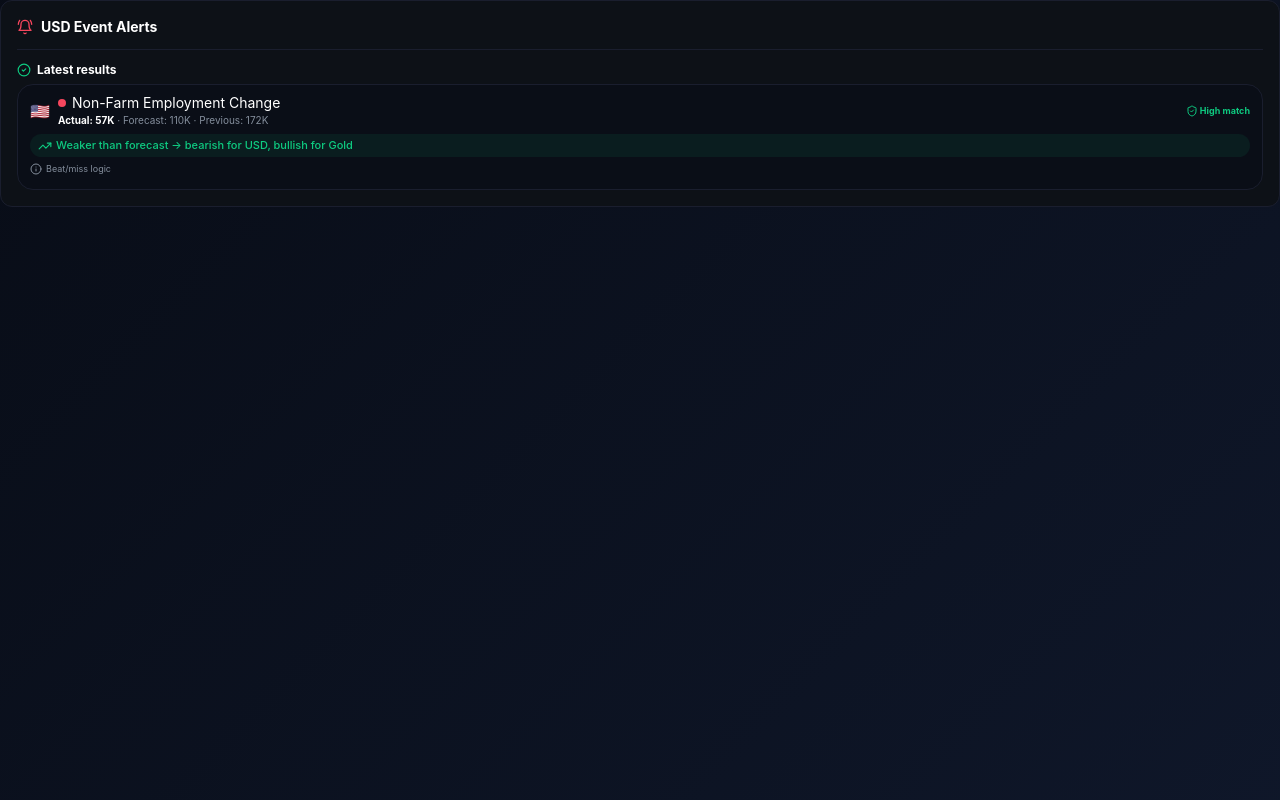
Test: EventAlertBanner — released NFP › reveals the method tooltip on interaction
Step 1. Hover over the button with aria-label "how this call was made" → {"x": 70, "y": 169}, box [30,162,111,176]
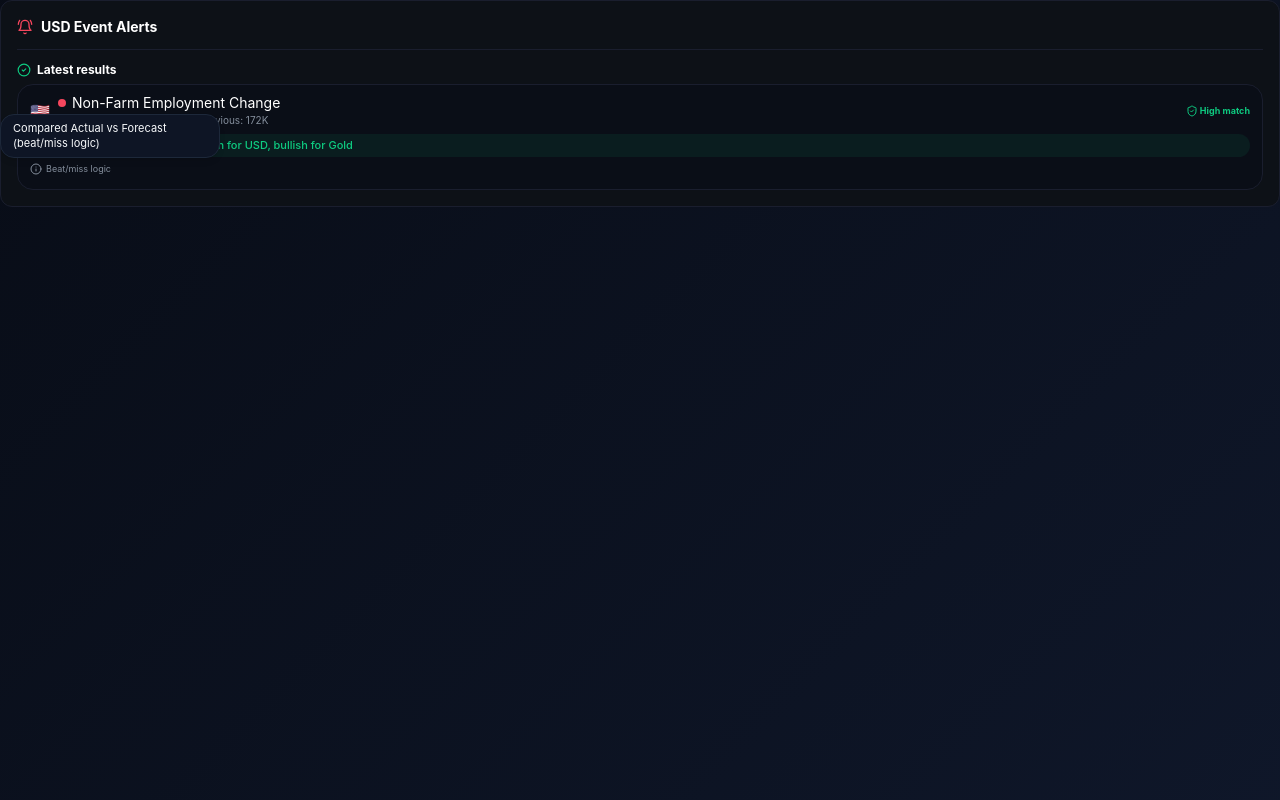
Check: the tooltip "Compared Actual vs Forecast (beat/miss logic)" is shown, box [0,114,220,158]
